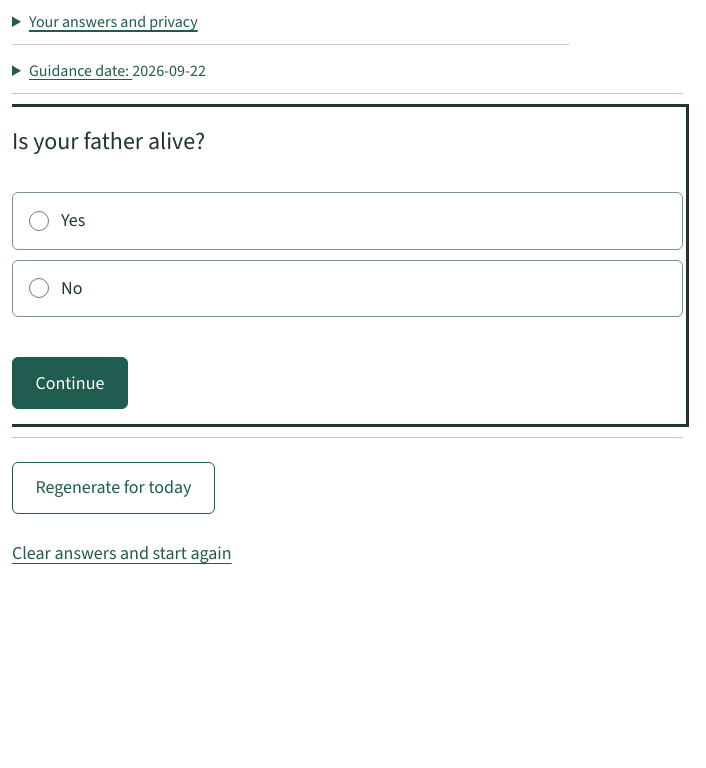
hydration, native fields and semantic progression › requires an explicit boolean, focuses validation, and sends No as false
Expected: the radio button labelled "No" is shown, [29,278,49,298]
Click the button "Continue" at (70, 383), box [12,357,128,409]
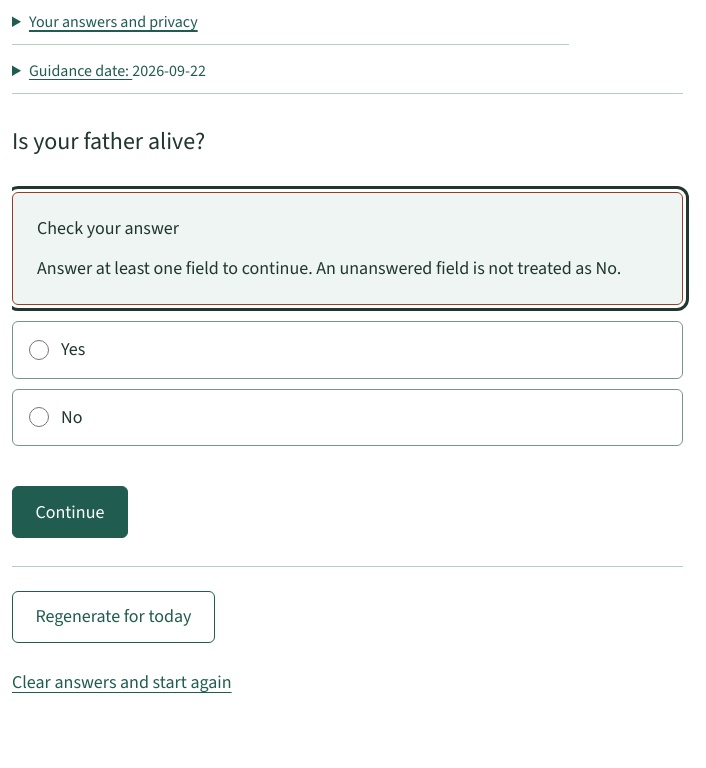
Click the radio button labelled "No" at (39, 418), box [29,408,49,428]
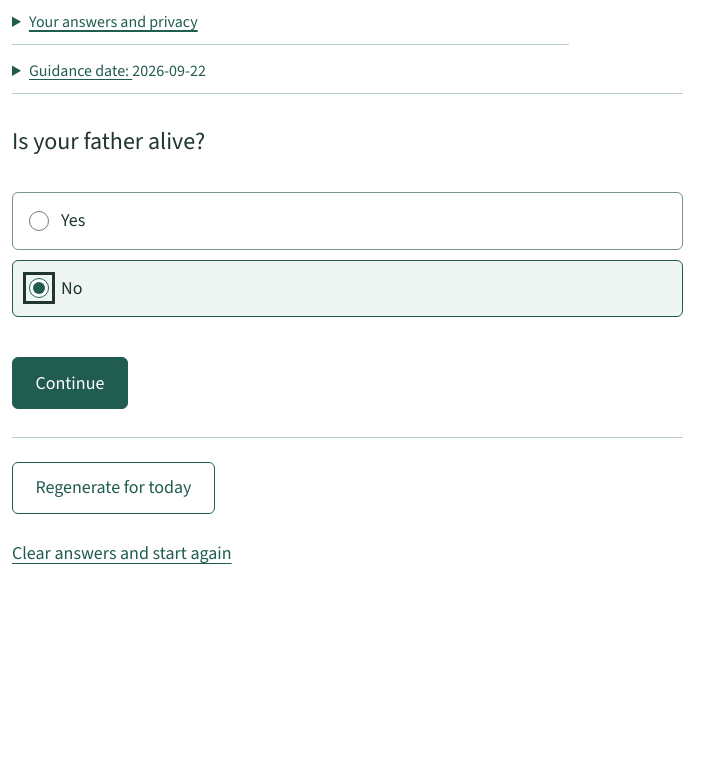
Click the button "Continue" at (70, 383), box [12,357,128,409]
(page scrolled)
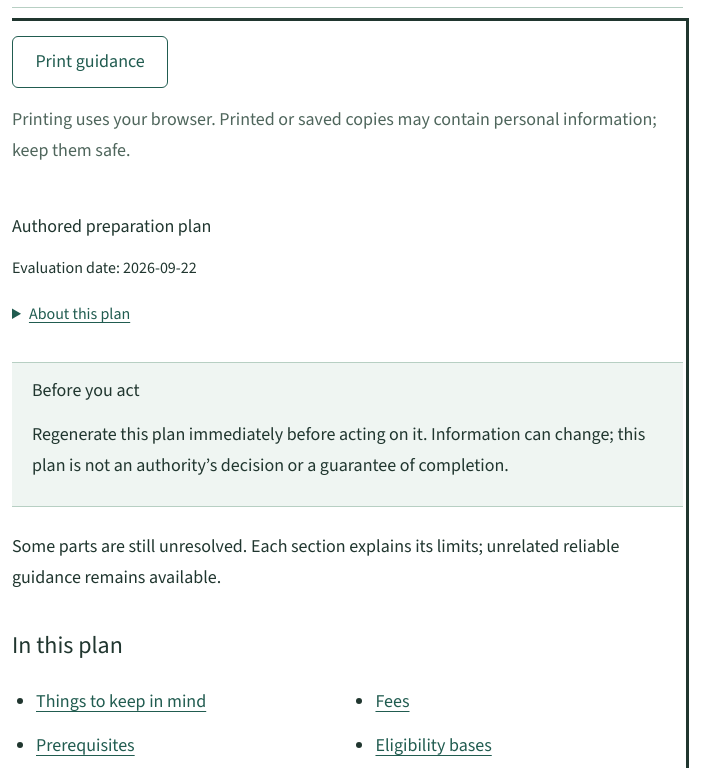
Now the text "Authored preparation plan" is shown, box [12,214,211,238]
